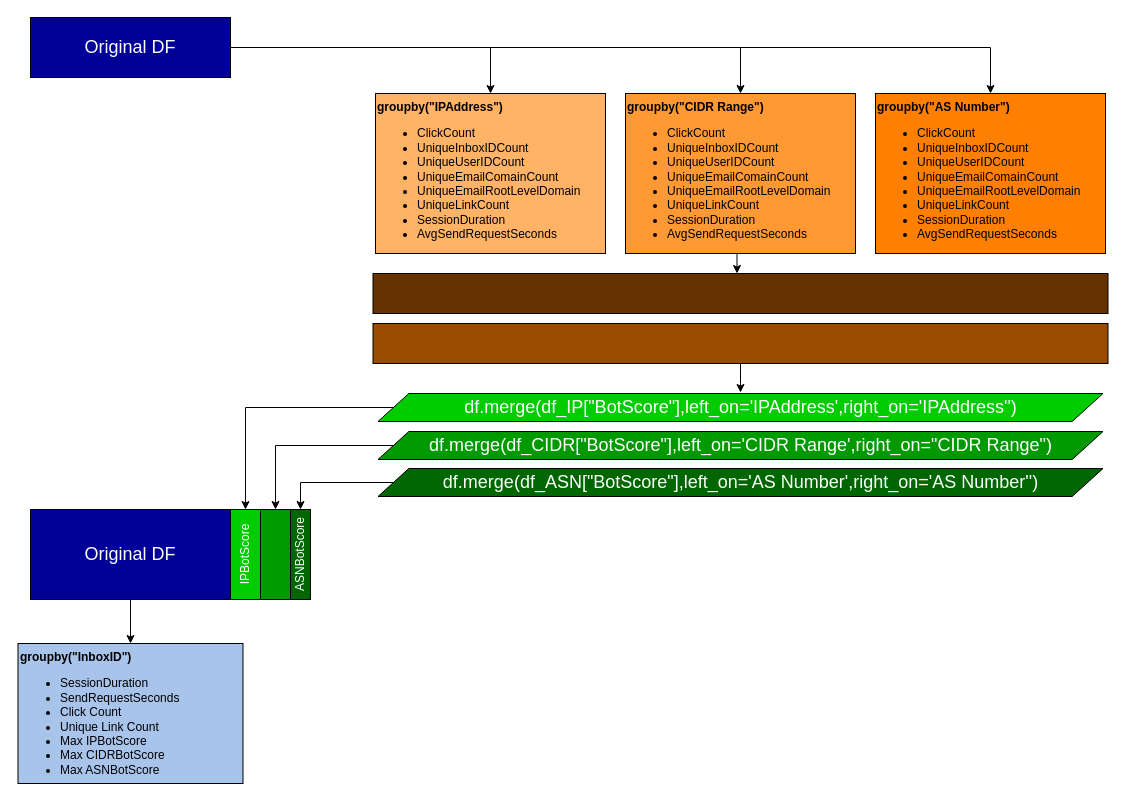
This 1125x807 diagram has some shape labels left out. The centre of each missing label's shape, as x and y in pixels:
CIDRBotScore: point (275, 554)
Manual Labeling of Clusters (BOT/NOT_BOT or BOT_SCORE): point (740, 343)
PCA / Unsupervised Clustering: point (740, 293)
